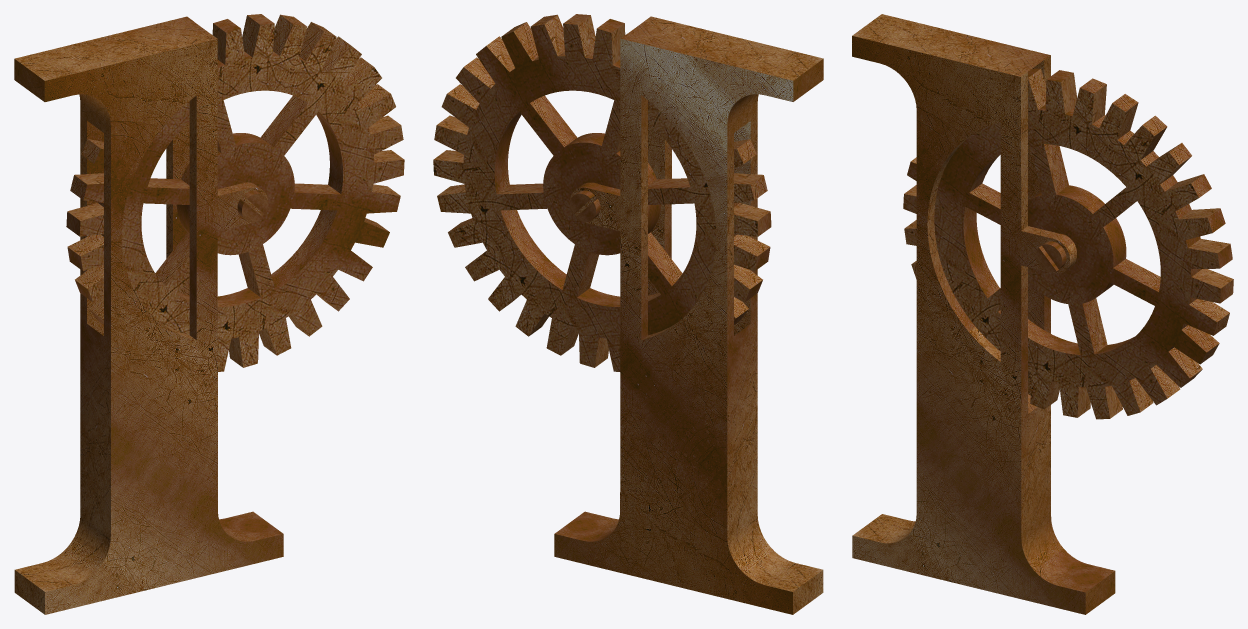
The picture shows the model from 3 angles, left to right: view 1: azimuth 30°, elevation 25°; view 2: azimuth 150°, elevation 25°; view 3: azimuth 330°, elevation 25°; orthographic projection. The views are drawn at different scales.
Parts seen in each view (by area): view 1: P, Cogwheel_259, Screw_837; view 2: P, Cogwheel_259, Screw_837; view 3: P, Cogwheel_259, Screw_837.
Part boxes in pixels (x1=…): P: x1=14, y1=16, x2=283, y2=614; Cogwheel_259: x1=66, y1=14, x2=404, y2=371; Screw_837: x1=237, y1=183, x2=268, y2=222; P: x1=554, y1=16, x2=823, y2=614; Cogwheel_259: x1=433, y1=14, x2=771, y2=371; Screw_837: x1=569, y1=183, x2=600, y2=222; P: x1=852, y1=14, x2=1115, y2=614; Cogwheel_259: x1=903, y1=68, x2=1233, y2=419; Screw_837: x1=1036, y1=233, x2=1066, y2=272.
Bounding box in the file's own units: 69.91 × 96.82 × 12.89.
Materials: 1 (1 with a texture image).
